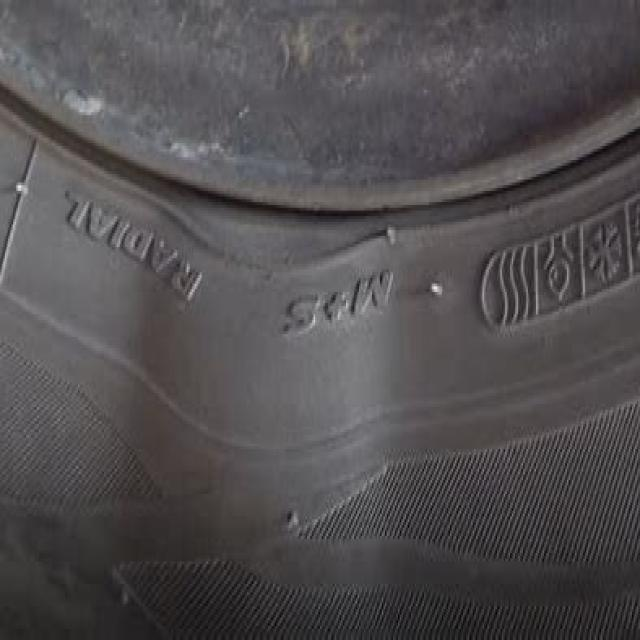Bulge: (116, 182, 390, 590)
